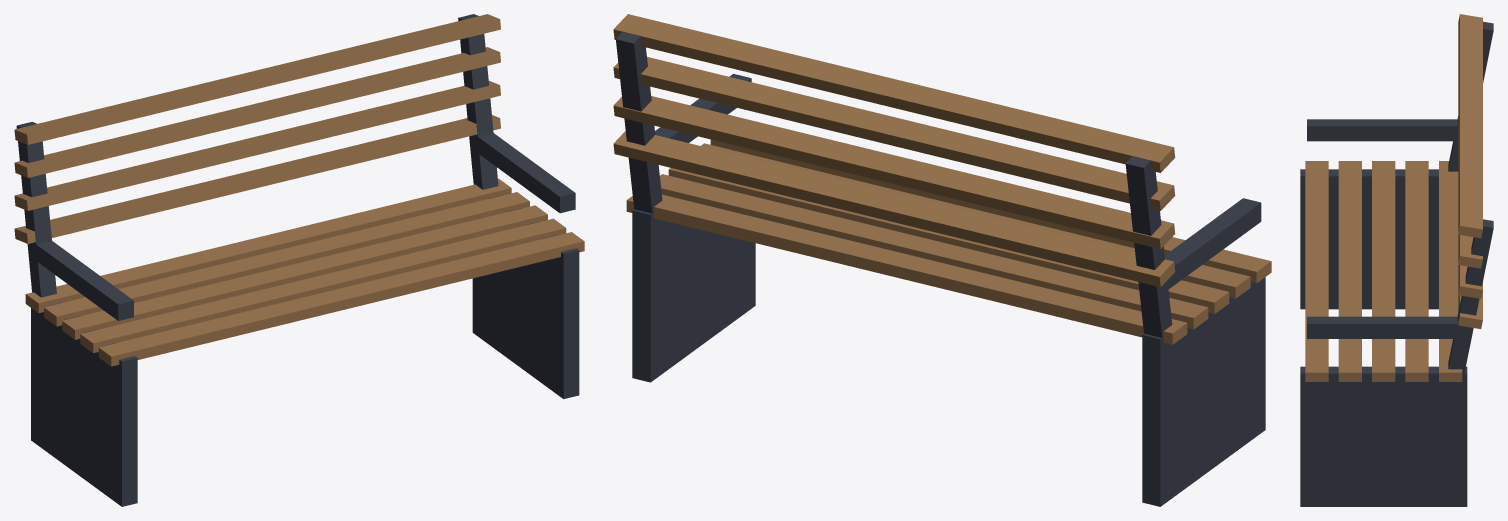
The model's file is banco-jardim.glb.
3 views of the same model, side by side, from view 1: azimuth 30°, elevation 25°; view 2: azimuth 150°, elevation 25°; view 3: azimuth 270°, elevation 25° (orthographic). The views are drawn at different scales.
Visible parts, largest first — view 1: banco-jardim_malha; view 2: banco-jardim_malha; view 3: banco-jardim_malha.
Boxes of the visible parts, <box> form: banco-jardim_malha: <box>14,14,584,506</box>; banco-jardim_malha: <box>613,14,1271,506</box>; banco-jardim_malha: <box>1300,14,1493,506</box>.
Bounding box in the file's own units: 1.5 × 0.941 × 0.5794.
